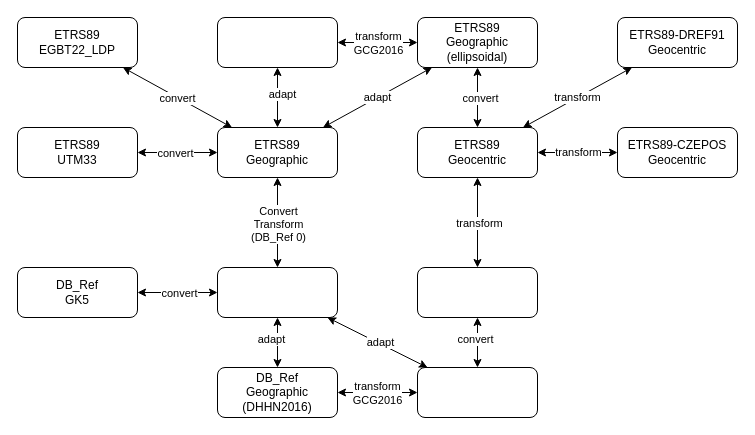
Image size: 755x435. Some labels were removed from this diagram. Here are the shapes that lost their labels. From the top down, the box of each, then its label:
(216, 16, 338, 68): ETRS89 Geographic (DHHN2016)
(216, 266, 338, 318): DB_Ref Geographic
(416, 266, 538, 318): DB_Ref Geocentric
(416, 366, 538, 418): DB_Ref Geographic (ellipsoidal)
